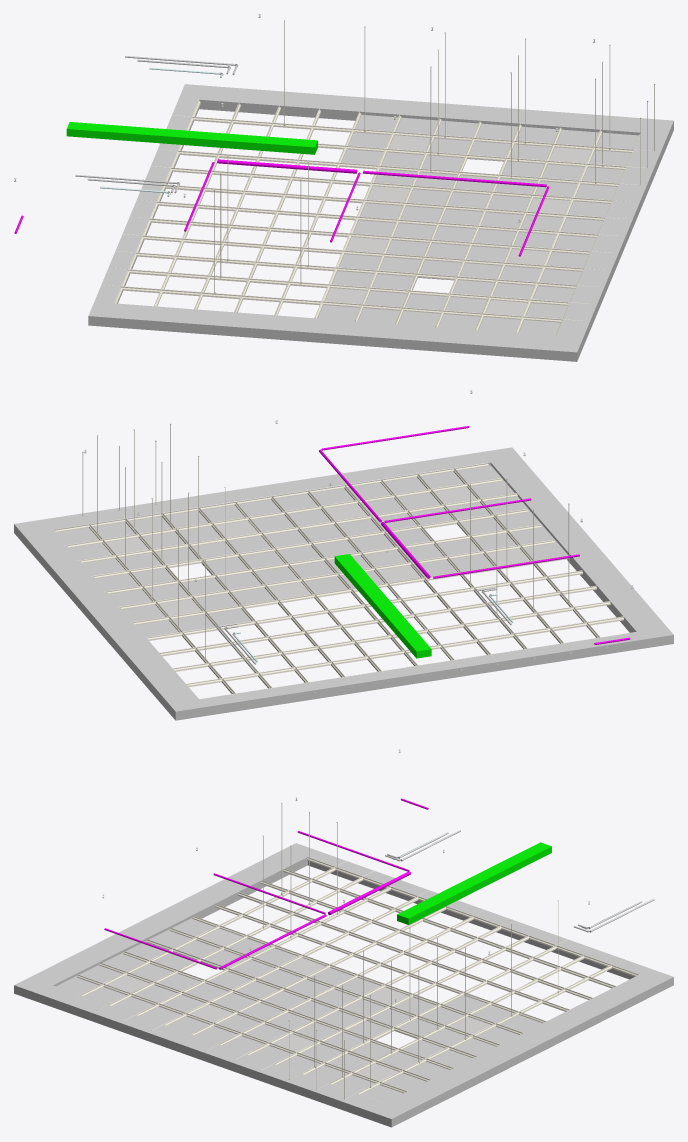
The picture shows the model from 3 angles, top to bottom: view 1: azimuth 30°, elevation 25°; view 2: azimuth 150°, elevation 25°; view 3: azimuth 270°, elevation 25°; orthographic projection. The views are drawn at different scales.
Visible parts, largest first — view 1: 楼板 23:楼板 2:3108700[1HUvvB4bb9keWcqddWV1Hb], 常规模型 124:常规模型 4:3108684[1HUvvB4bb9keWcqddWV1Hr], 矩形风管:AC-矩形-送风:3137628[1GeACjUHjBGAb1Ze1absZ_], 管道类型:FS_喷淋管:3138906[1GeACjUHjBGAb1Ze1abstu], 管道类型:FS_喷淋管:3138908[1GeACjUHjBGAb1Ze1abst_], 楼板 29:楼板 3:3109349[1HUvvB4bb9keWcqddWV0hS], 楼板 24:楼板 3:3109199[1HUvvB4bb9keWcqddWV0fs], 楼板 27:楼板 3:3109289[1HUvvB4bb9keWcqddWV0gG], 楼板 30:楼板 3:3109379[1HUvvB4bb9keWcqddWV0aw], 楼板 28:楼板 3:3109319[1HUvvB4bb9keWcqddWV0h_], 楼板 31:楼板 3:3109409[1HUvvB4bb9keWcqddWV0aO], 楼板 25:楼板 3:3109229[1HUvvB4bb9keWcqddWV0fK]; view 2: 楼板 23:楼板 2:3108700[1HUvvB4bb9keWcqddWV1Hb], 常规模型 124:常规模型 4:3108684[1HUvvB4bb9keWcqddWV1Hr], 矩形风管:AC-矩形-送风:3137628[1GeACjUHjBGAb1Ze1absZ_], 楼板 29:楼板 3:3109349[1HUvvB4bb9keWcqddWV0hS]; view 3: 楼板 23:楼板 2:3108700[1HUvvB4bb9keWcqddWV1Hb], 常规模型 124:常规模型 4:3108684[1HUvvB4bb9keWcqddWV1Hr], 矩形风管:AC-矩形-送风:3137628[1GeACjUHjBGAb1Ze1absZ_].
Part boxes in pixels (<box>): 楼板 23:楼板 2:3108700[1HUvvB4bb9keWcqddWV1Hb]: <box>88,84,673,361</box>; 常规模型 124:常规模型 4:3108684[1HUvvB4bb9keWcqddWV1Hr]: <box>101,100,653,336</box>; 矩形风管:AC-矩形-送风:3137628[1GeACjUHjBGAb1Ze1absZ_]: <box>66,122,317,154</box>; 管道类型:FS_喷淋管:3138906[1GeACjUHjBGAb1Ze1abstu]: <box>217,159,357,173</box>; 管道类型:FS_喷淋管:3138908[1GeACjUHjBGAb1Ze1abst_]: <box>363,170,546,187</box>; 楼板 29:楼板 3:3109349[1HUvvB4bb9keWcqddWV0hS]: <box>367,186,409,202</box>; 楼板 24:楼板 3:3109199[1HUvvB4bb9keWcqddWV0fs]: <box>485,300,527,315</box>; 楼板 27:楼板 3:3109289[1HUvvB4bb9keWcqddWV0gG]: <box>549,147,591,163</box>; 楼板 30:楼板 3:3109379[1HUvvB4bb9keWcqddWV0aw]: <box>346,237,388,253</box>; 楼板 28:楼板 3:3109319[1HUvvB4bb9keWcqddWV0h_]: <box>388,135,430,151</box>; 楼板 31:楼板 3:3109409[1HUvvB4bb9keWcqddWV0aO]: <box>325,288,366,303</box>; 楼板 25:楼板 3:3109229[1HUvvB4bb9keWcqddWV0fK]: <box>507,249,548,264</box>; 楼板 23:楼板 2:3108700[1HUvvB4bb9keWcqddWV1Hb]: <box>14,447,673,720</box>; 常规模型 124:常规模型 4:3108684[1HUvvB4bb9keWcqddWV1Hr]: <box>51,460,635,700</box>; 矩形风管:AC-矩形-送风:3137628[1GeACjUHjBGAb1Ze1absZ_]: <box>334,554,431,658</box>; 楼板 29:楼板 3:3109349[1HUvvB4bb9keWcqddWV0hS]: <box>268,582,311,599</box>; 楼板 23:楼板 2:3108700[1HUvvB4bb9keWcqddWV1Hb]: <box>14,843,673,1127</box>; 常规模型 124:常规模型 4:3108684[1HUvvB4bb9keWcqddWV1Hr]: <box>55,857,638,1103</box>; 矩形风管:AC-矩形-送风:3137628[1GeACjUHjBGAb1Ze1absZ_]: <box>397,842,551,924</box>.
Size of the model in its own units: 11.13 by 1.83 by 10.98.
